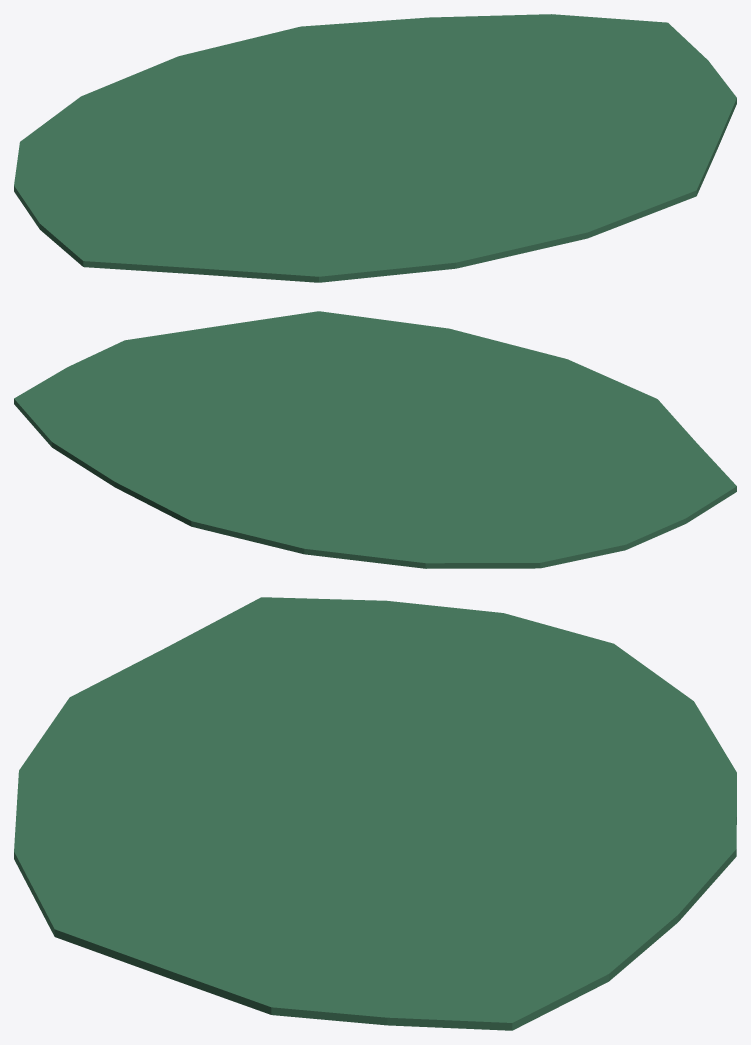
The picture shows the model from 3 angles, top to bottom: view 1: azimuth 30°, elevation 25°; view 2: azimuth 150°, elevation 25°; view 3: azimuth 270°, elevation 25°; orthographic projection. The views are drawn at different scales.
Visible parts, largest first — view 1: 独立森林草纸.001; view 2: 独立森林草纸.001; view 3: 独立森林草纸.001.
Boxes of the visible parts, bbox=[...] form: 独立森林草纸.001: bbox=[14, 14, 736, 282]; 独立森林草纸.001: bbox=[14, 311, 736, 568]; 独立森林草纸.001: bbox=[14, 597, 736, 1030].
Bounding box in the file's own units: 2.95 × 0.025 × 2.11.
